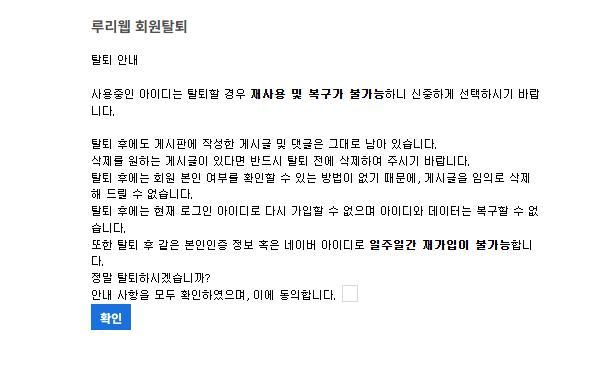button: (90, 302, 132, 333)
checkbox: (89, 285, 364, 302)
